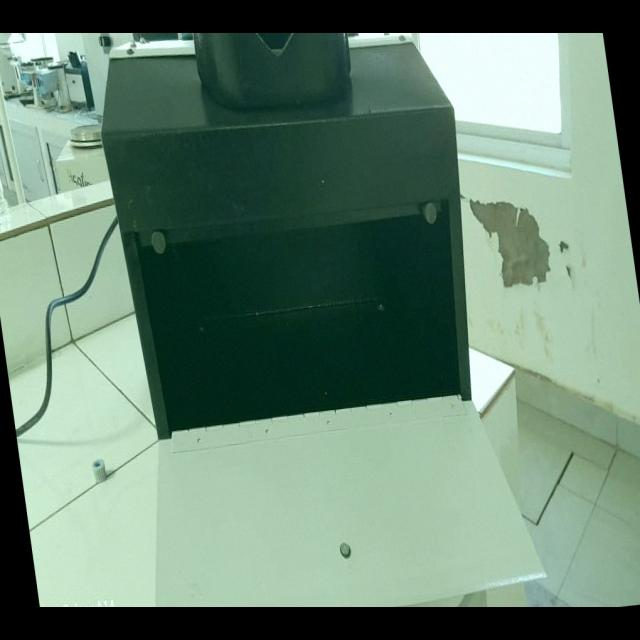U.V Cabinet: (87, 33, 518, 460)
